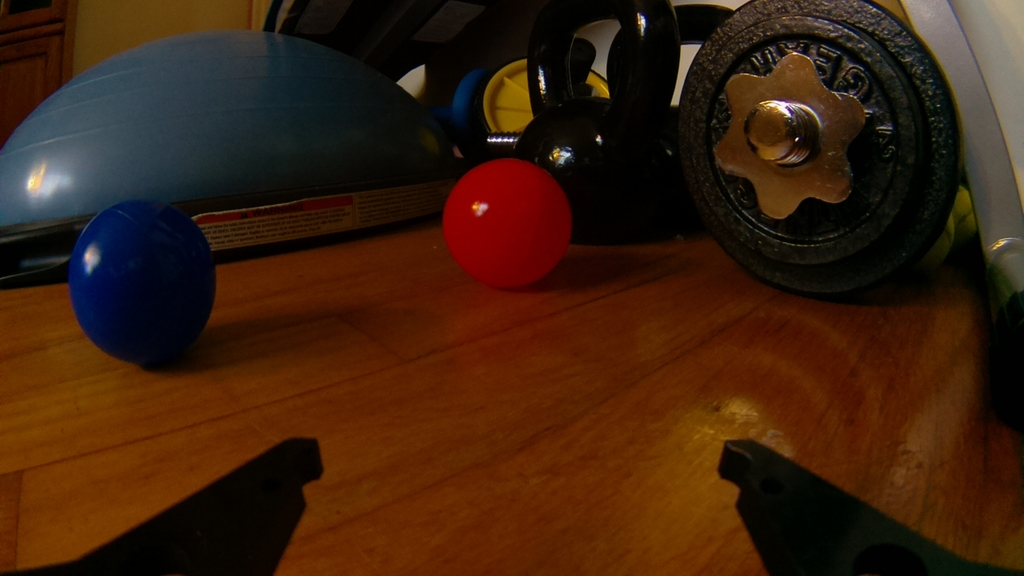ball: (440, 156, 573, 289)
